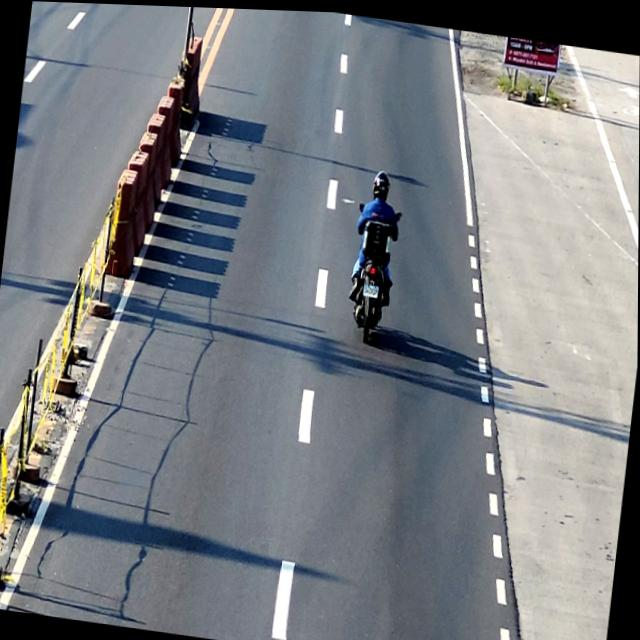License-Plate: (363, 280, 379, 295)
Motorcycle: (345, 196, 402, 345)
